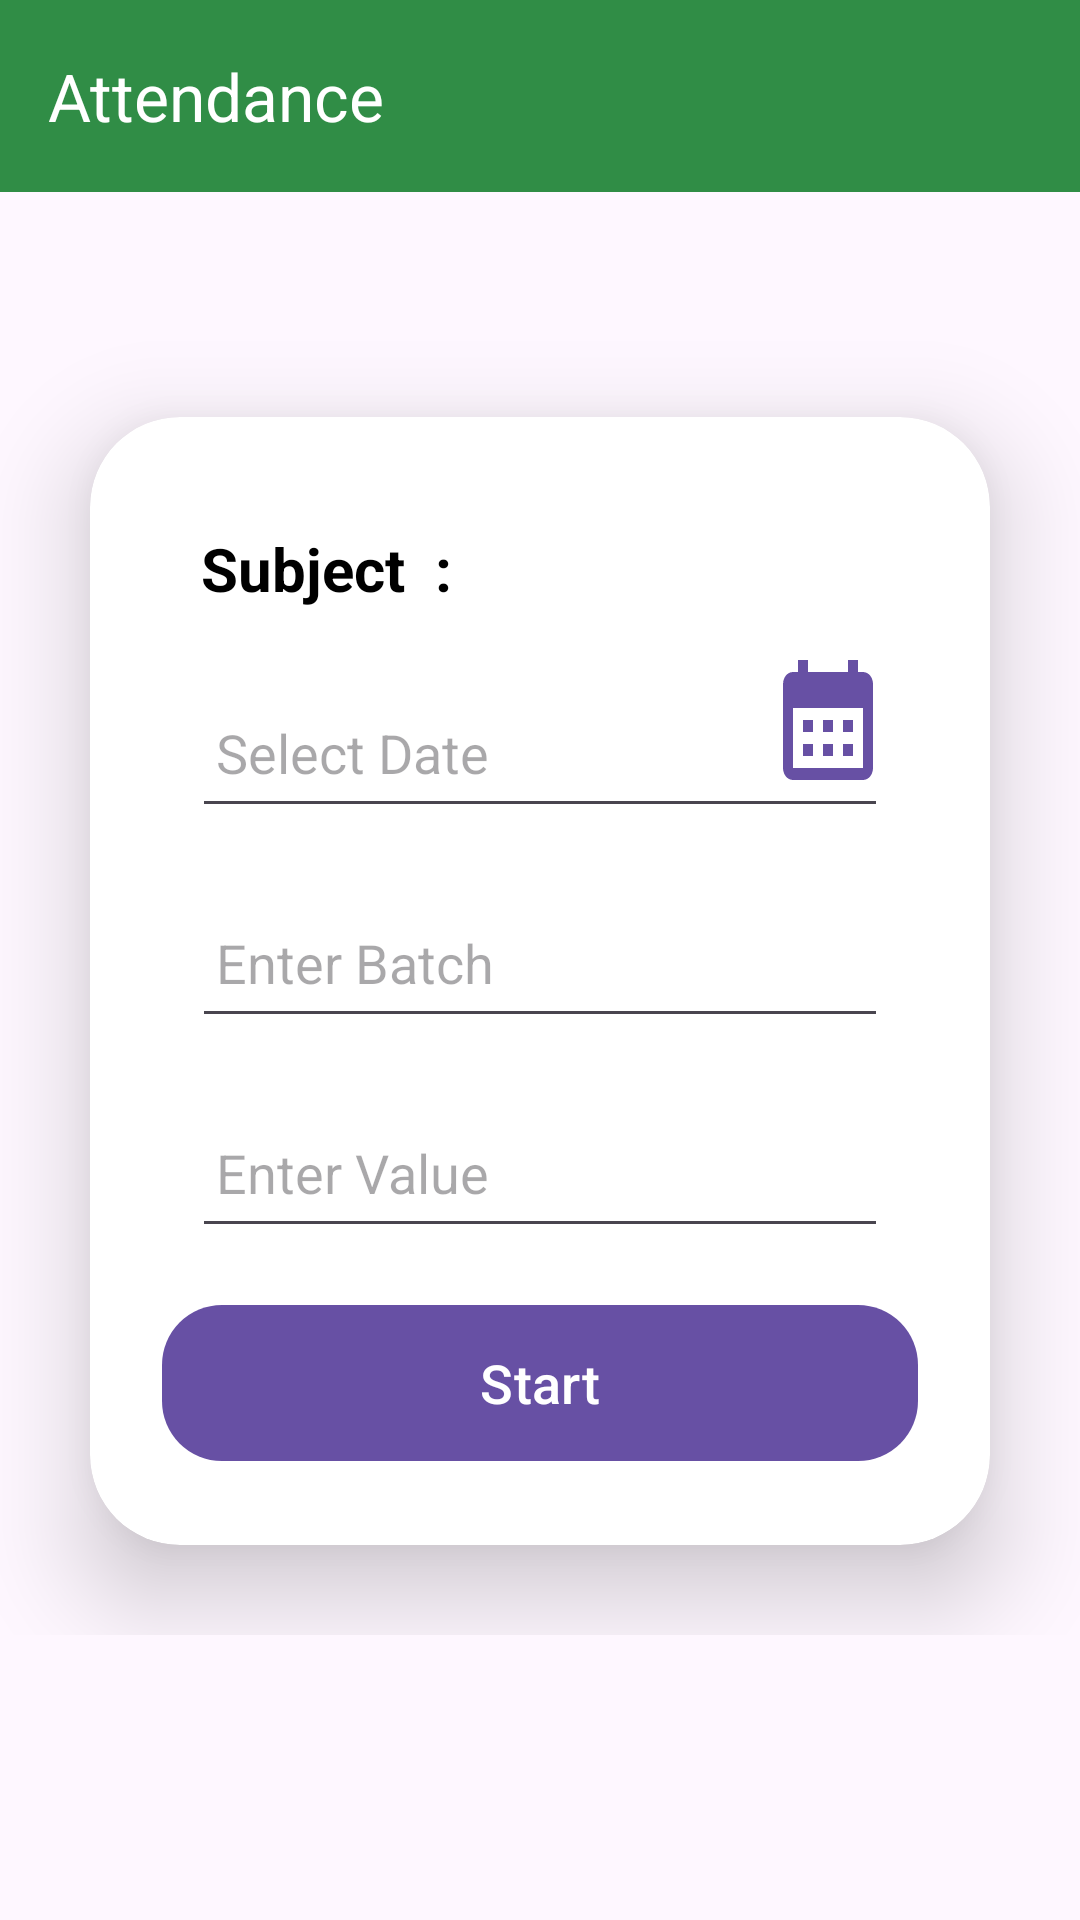

Named icons in this screenshot (1080×1920) and their bounding boxes, (x1, y1, x2, y2):
calendar month: (783, 660, 873, 780)
